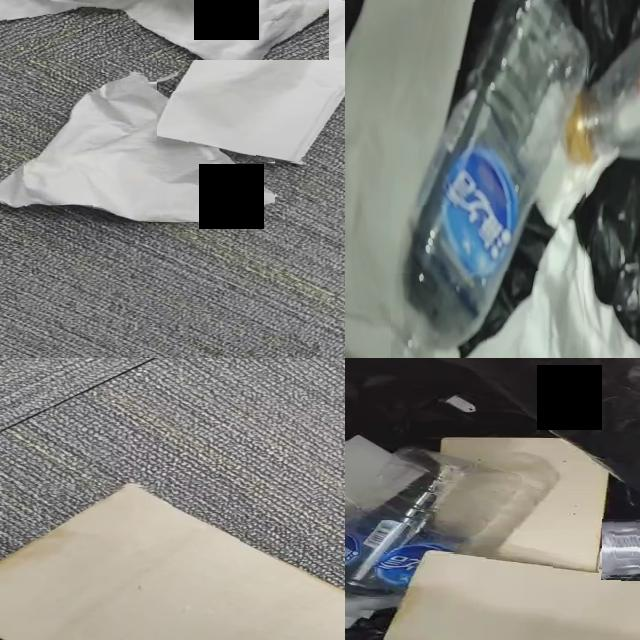bottle: (391, 0, 589, 358), (345, 448, 515, 622), (570, 39, 640, 167), (603, 522, 640, 577)
carton: (0, 487, 345, 640), (386, 552, 640, 640), (436, 438, 607, 568)
paper: (345, 0, 474, 358), (0, 75, 275, 222), (157, 0, 345, 162), (472, 223, 640, 358), (522, 84, 612, 229), (345, 436, 393, 506), (599, 545, 640, 573)
